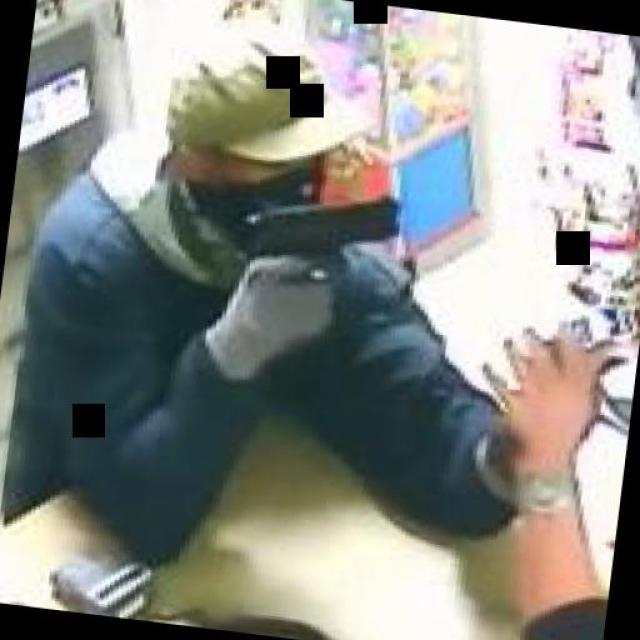gun: (222, 171, 408, 340)
